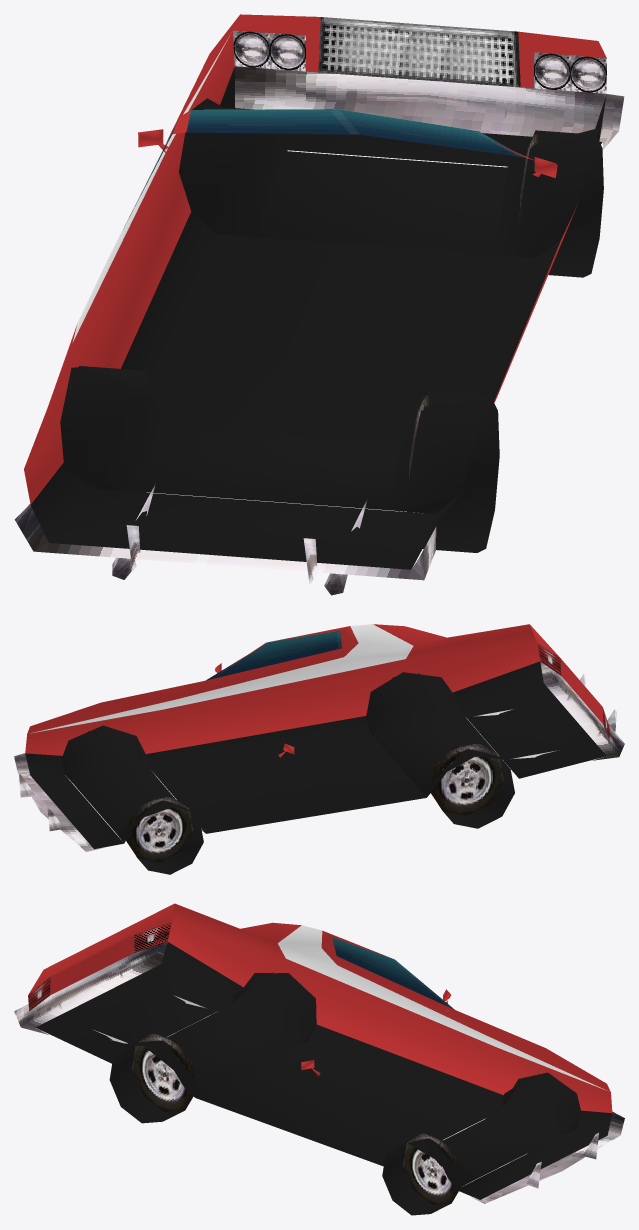
The model's file is ps2_save-icons_starskyhutch.glb.
3 views of the same model, one above another, from view 1: azimuth 30°, elevation 25°; view 2: azimuth 150°, elevation 25°; view 3: azimuth 270°, elevation 25° (orthographic). The views are drawn at different scales.
Parts seen in each view (by area): view 1: memcard.ico; view 2: memcard.ico; view 3: memcard.ico.
Boxes of the visible parts, x1,y1,x2,y2 form: memcard.ico: (14, 14, 624, 595); memcard.ico: (14, 624, 624, 874); memcard.ico: (14, 903, 624, 1215).
Bounding box in the file's own units: 4.25 × 1.27 × 4.62.
1 material, 1 textured.
